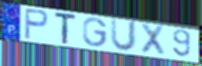9: (172, 29, 192, 58)
G: (82, 17, 108, 48)
P: (23, 8, 50, 42)
T: (53, 12, 78, 46)
U: (109, 17, 138, 53)
X: (140, 22, 166, 58)
